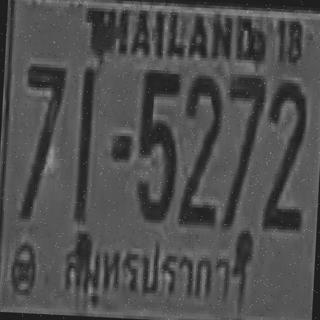N01: (73, 68, 94, 221)
N02: (262, 77, 308, 229), (178, 73, 223, 224)
N05: (134, 66, 179, 221)
N07: (18, 60, 65, 218), (220, 71, 266, 228), (21, 60, 66, 188)
P57: (59, 230, 252, 310)
